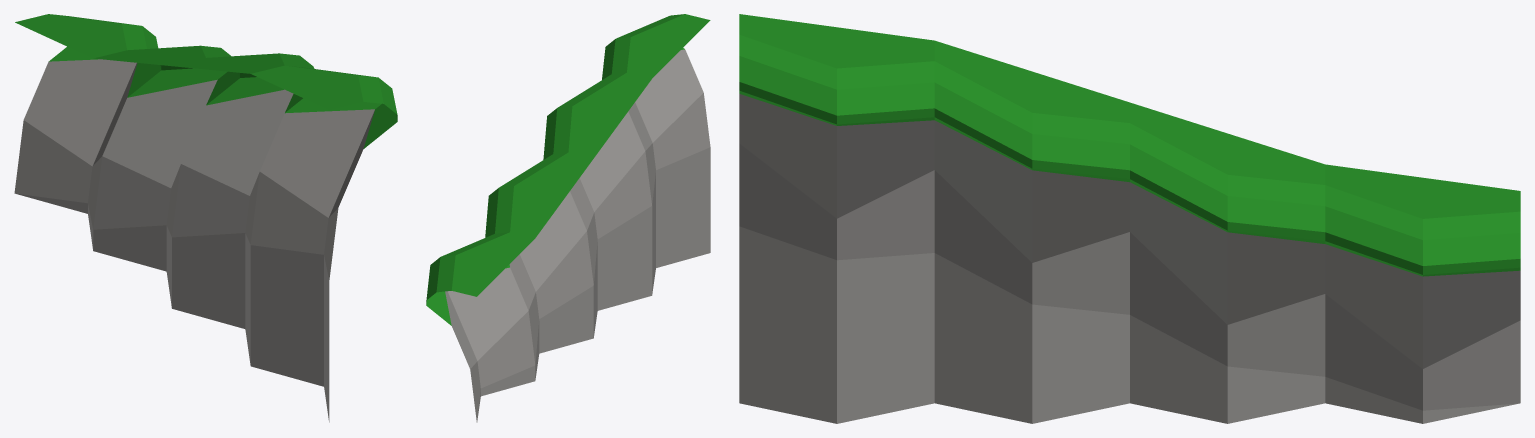
Rendered from Cliff_Terrain_Hill_Gentle_Top.obj.
3 views of the same model, side by side, from view 1: azimuth 30°, elevation 25°; view 2: azimuth 150°, elevation 25°; view 3: azimuth 270°, elevation 25° (orthographic). The views are drawn at different scales.
Parts seen in each view (by area): view 1: object1; view 2: object1; view 3: object1.
Part boxes in pixels (x1,y1,x2,y2): object1: (14,14,397,422); object1: (426,14,710,422); object1: (739,14,1520,423).
Size of the model in its own units: 0.75 by 2.2 by 4.
